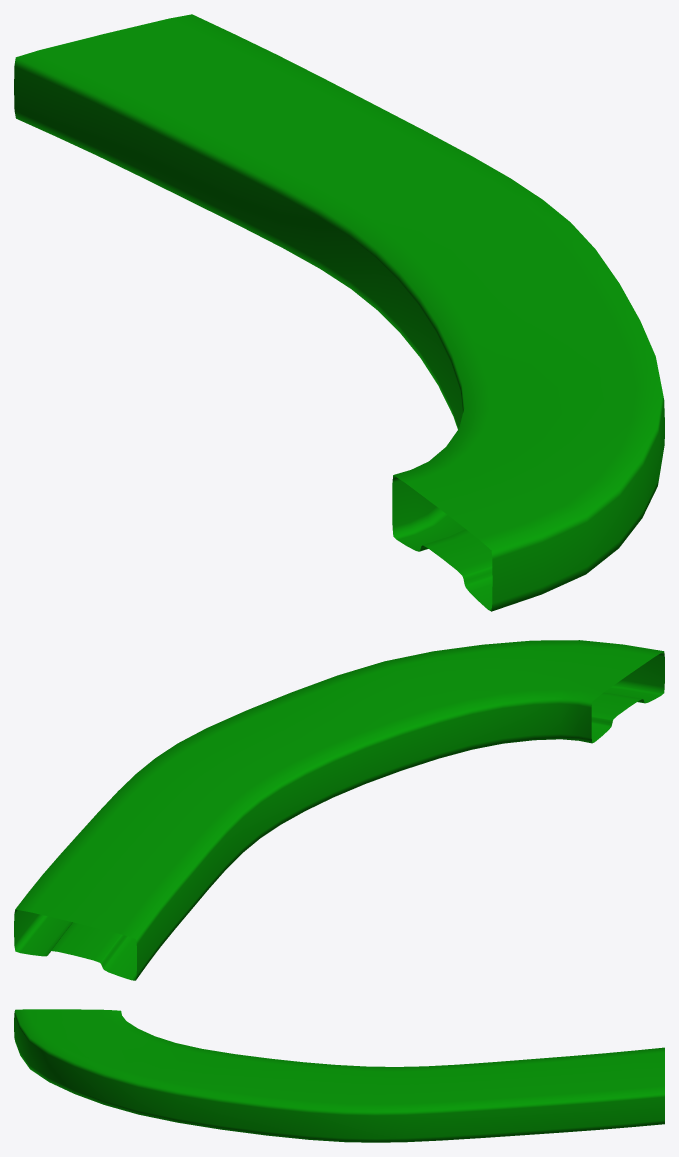
The model's file is TracksNotmoveRigModularBendRight.fbx.
3 views of the same model, one above another, from view 1: azimuth 30°, elevation 25°; view 2: azimuth 150°, elevation 25°; view 3: azimuth 270°, elevation 25° (orthographic). The views are drawn at different scales.
Parts seen in each view (by area): view 1: NotmoveRigModularBendRight; view 2: NotmoveRigModularBendRight; view 3: NotmoveRigModularBendRight.
Boxes of the visible parts, x1=… form: NotmoveRigModularBendRight: x1=14, y1=14, x2=664, y2=611; NotmoveRigModularBendRight: x1=14, y1=640, x2=664, y2=980; NotmoveRigModularBendRight: x1=14, y1=1009, x2=664, y2=1142.
Size of the model in its own units: 31.58 by 4.99 by 85.58.
